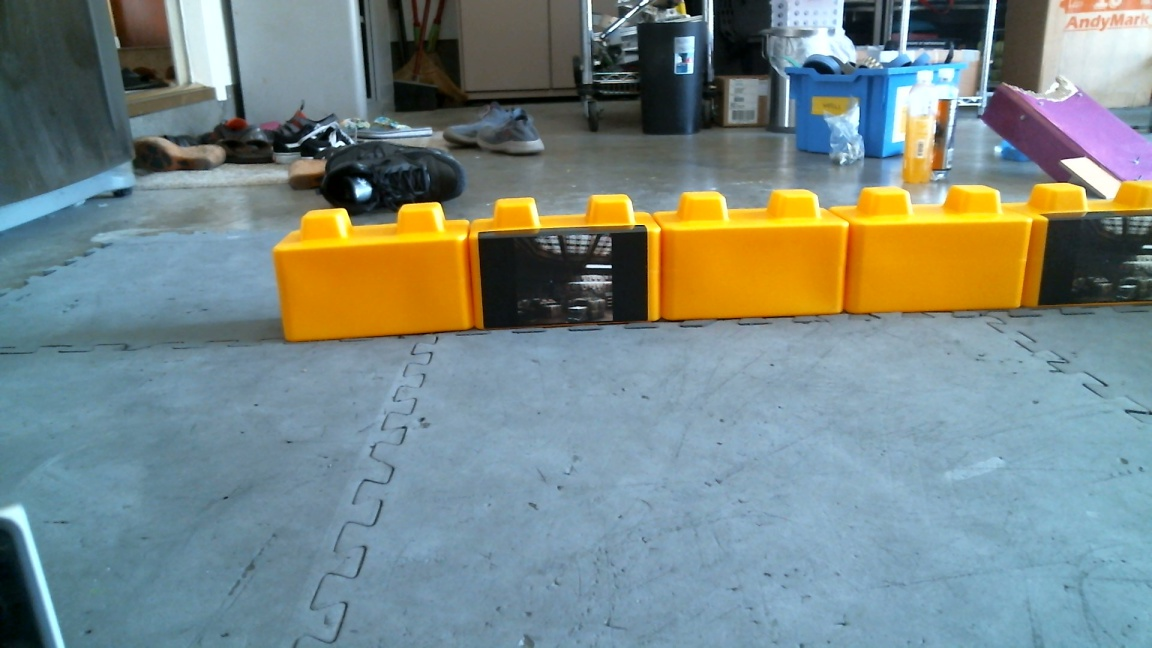center: (277, 193, 843, 351)
left: (466, 185, 1026, 337)
right: (654, 178, 1152, 324)
